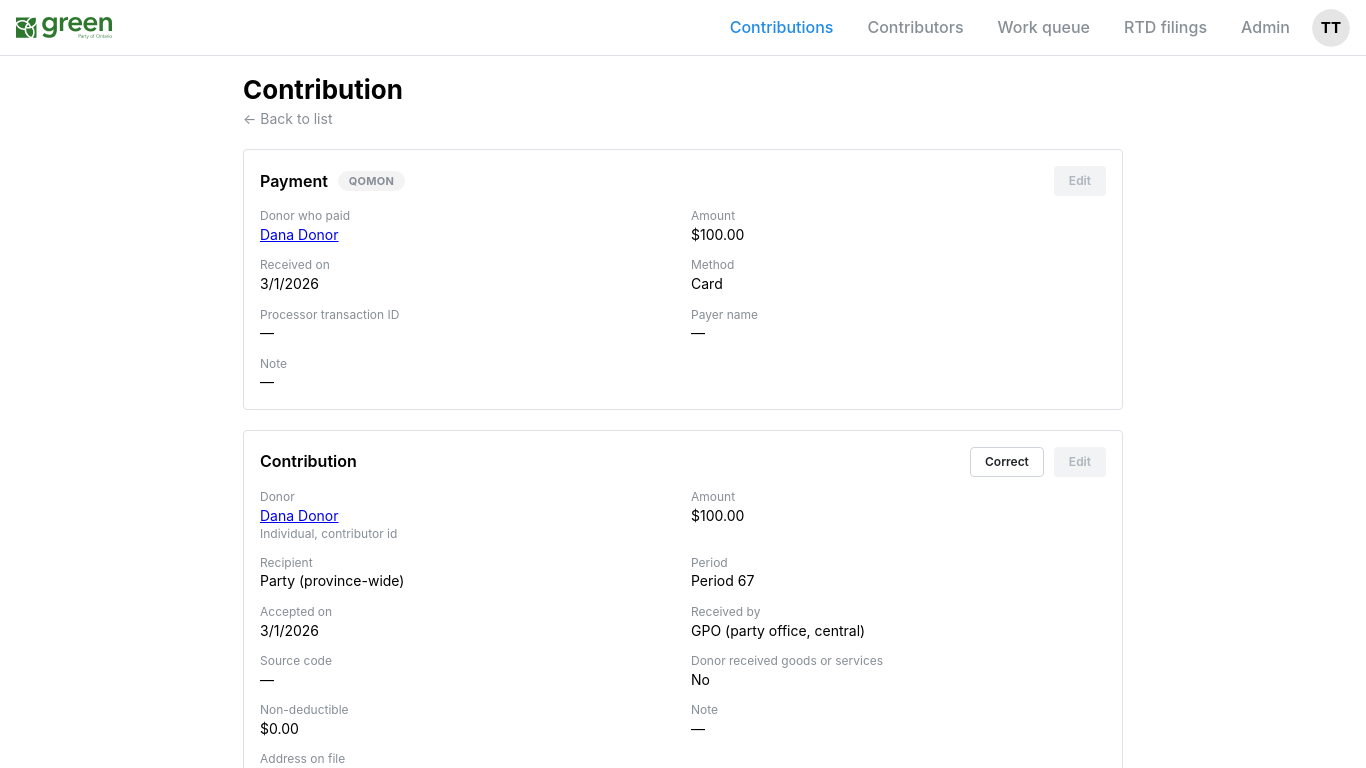
it: a blocked cascade cannot be committed
The width and height of the screenshot is (1366, 768).
Click the button "Correct". click: coordinates (1007, 462)
box: [970,447,1044,477]
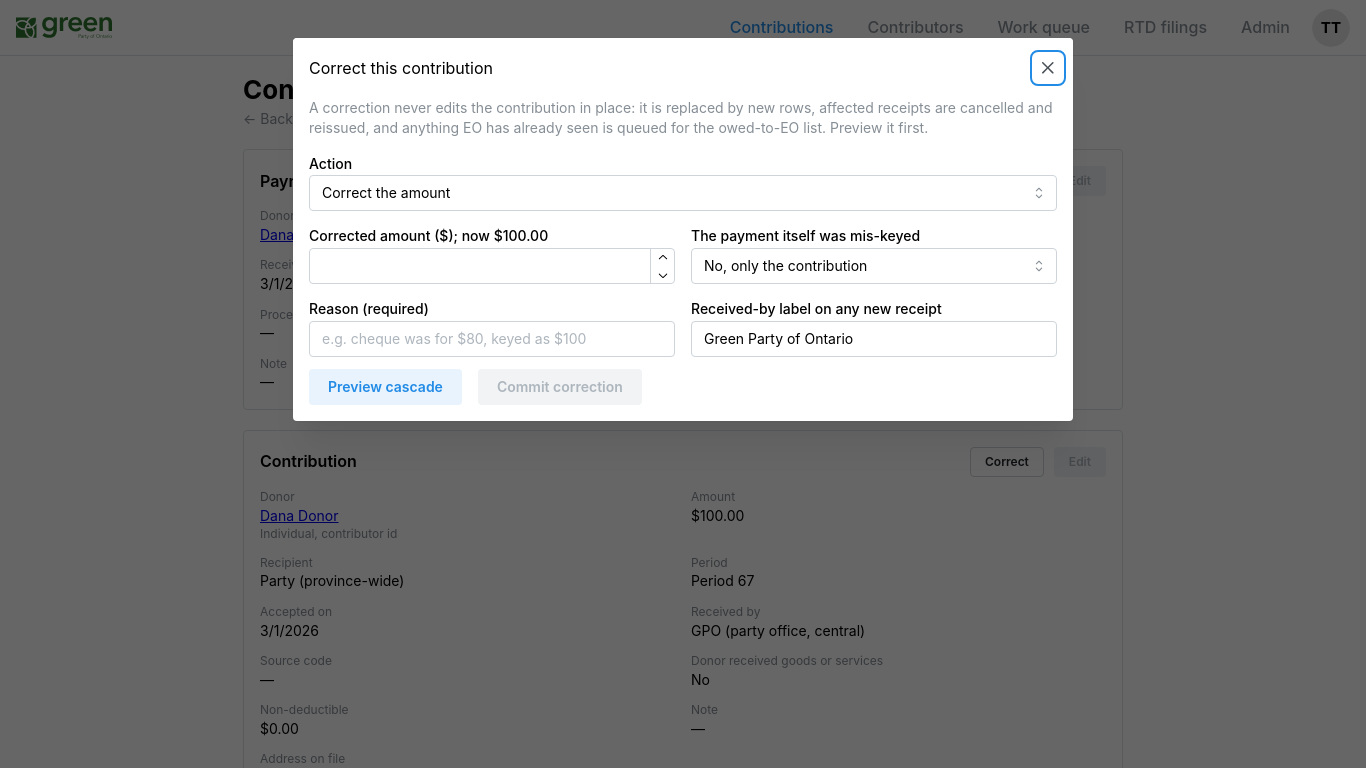
Expected: the heading "Correct this contribution" is shown, [309,60,493,76]
Type "80" into the field labelled "Corrected amount ($); now $100.00". click: coordinates (492, 267)
box: [309,249,675,285]
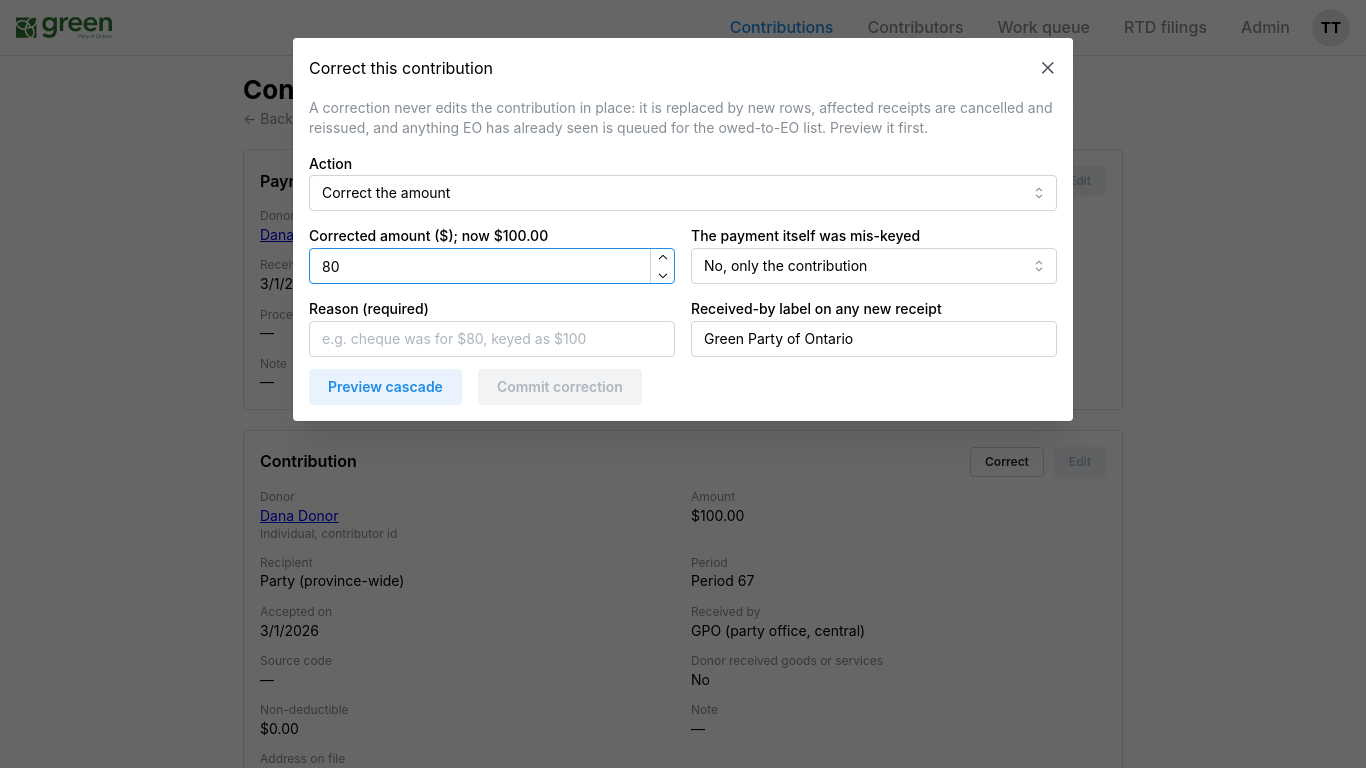
Type "fix" into the field with placeholder "e.g. cheque was for $80, keyed as $100". click: coordinates (492, 339)
box: [309,321,675,357]
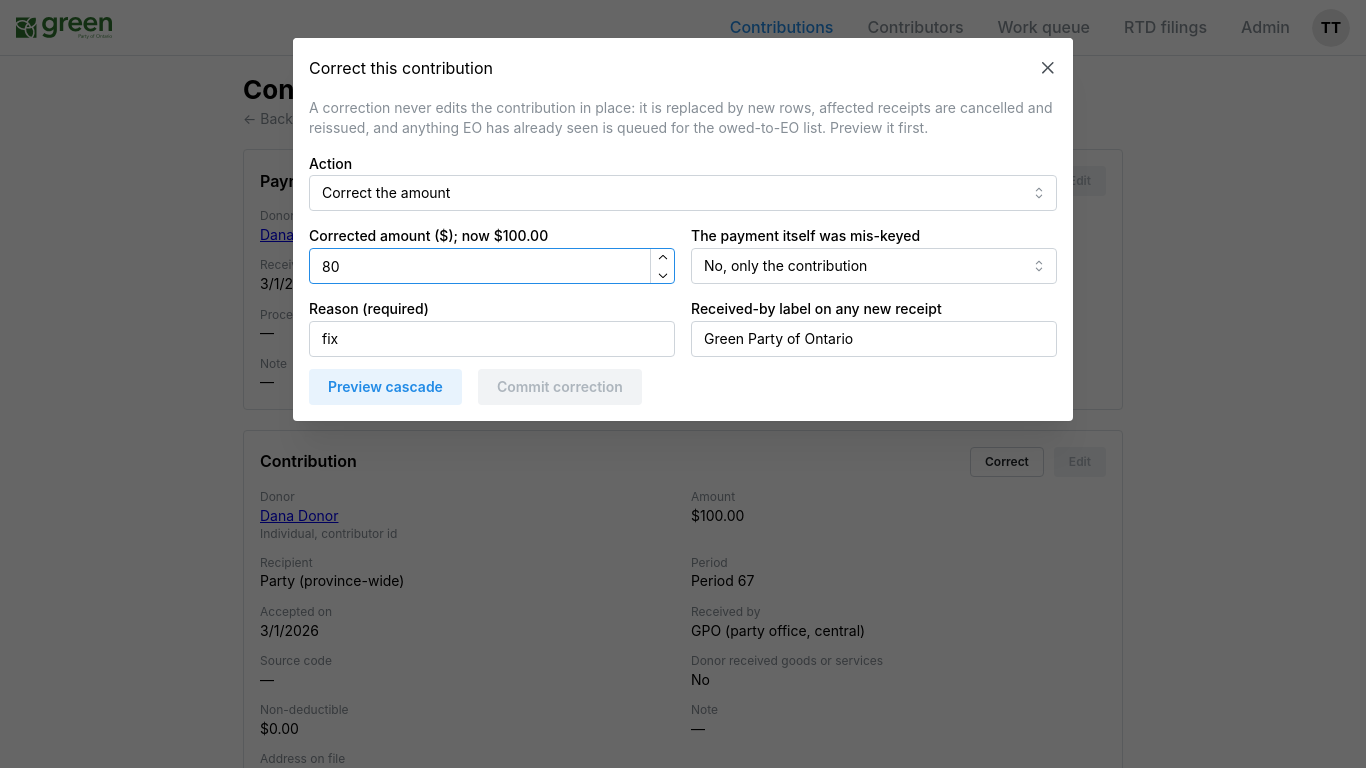
Click the button "Preview cascade". click: coordinates (385, 387)
box: [309,369,462,405]
(page scrolled)
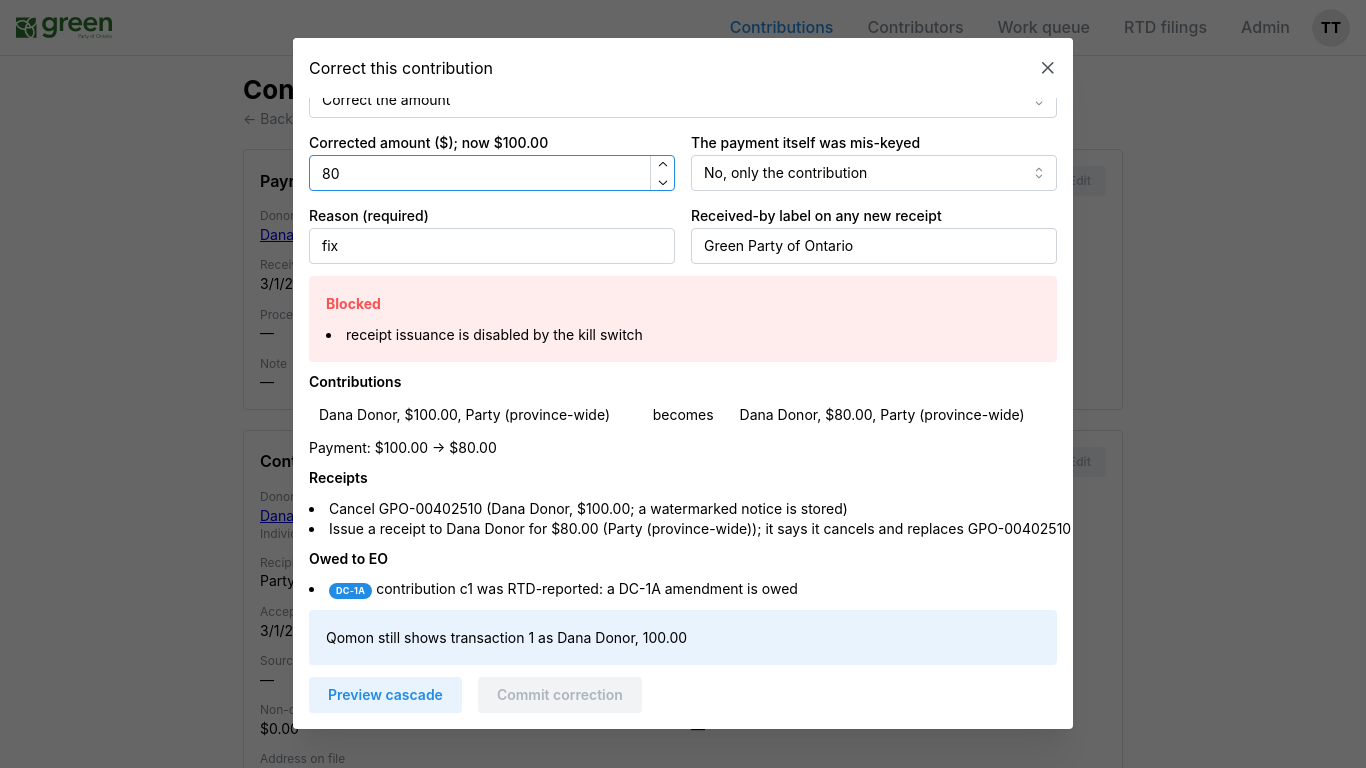
Expected: the button "Commit correction" is disabled, [478,678,642,714]
Expected: the text "receipt issuance is disabled by the kill switch" is shown, [346,325,643,345]
